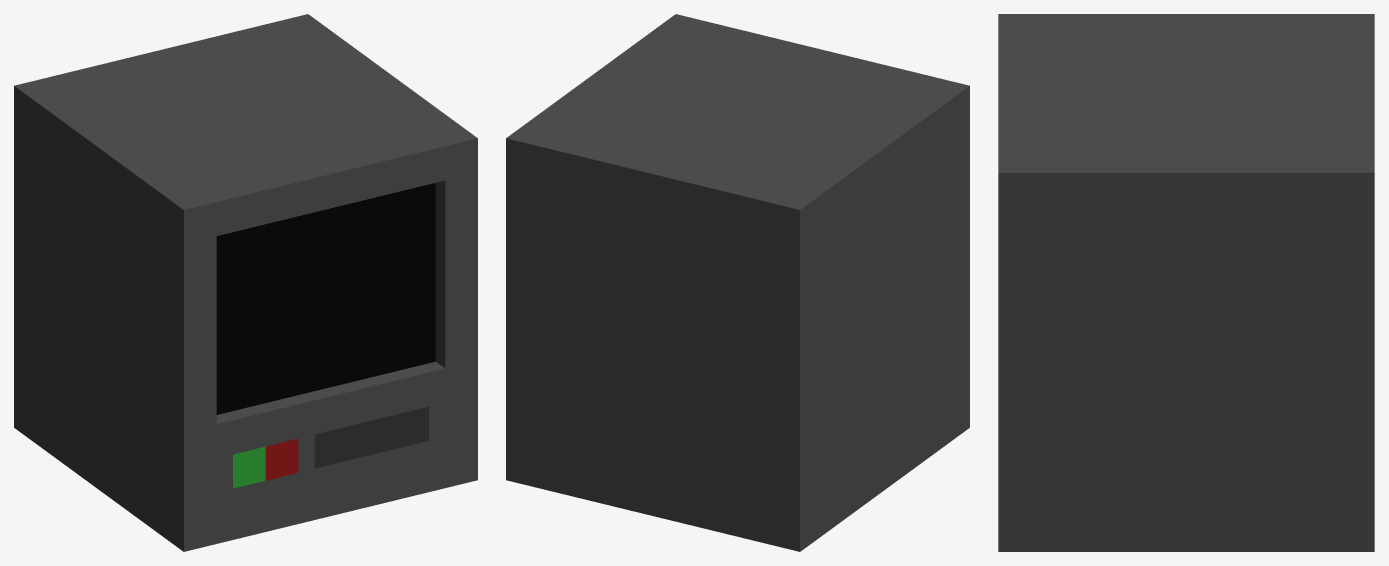
Rendered from Computer.obj.
3 renders of one model, left to right at view 1: azimuth 30°, elevation 25°; view 2: azimuth 150°, elevation 25°; view 3: azimuth 270°, elevation 25°, orthographic. The views are drawn at different scales.
Parts seen in each view (by area): view 1: Computer; view 2: Computer; view 3: Computer.
Part boxes in pixels (x1,y1,x2,y2): Computer: [14, 14, 477, 551]; Computer: [506, 14, 969, 551]; Computer: [998, 14, 1374, 551].
Size of the model in its own units: 18 by 20 by 18.
Materials: 1 (1 with a texture image).
